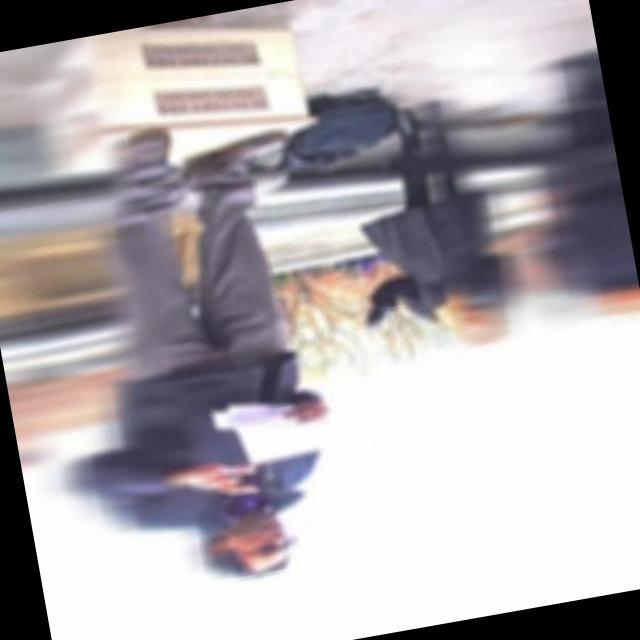box: (33, 1, 314, 194)
